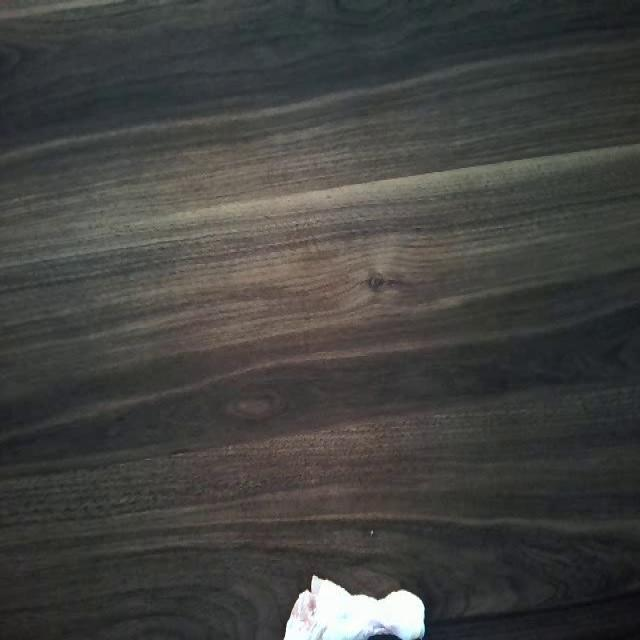leg: (277, 577, 434, 640)
